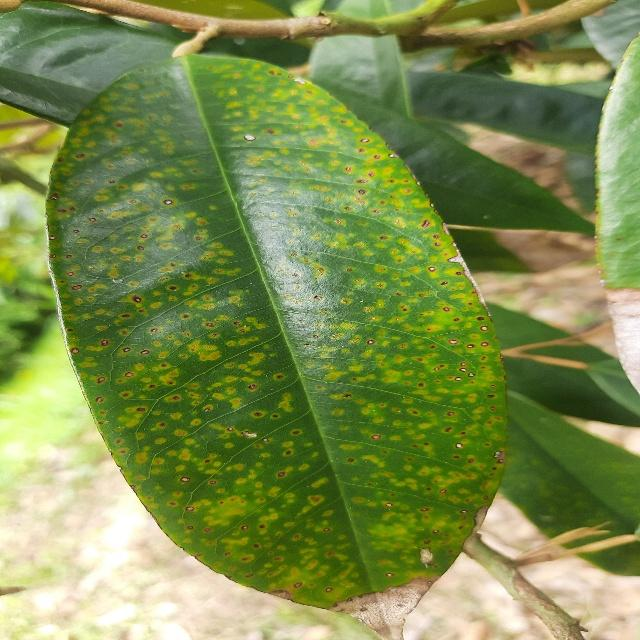Leaf Spot: (35, 41, 518, 640)
